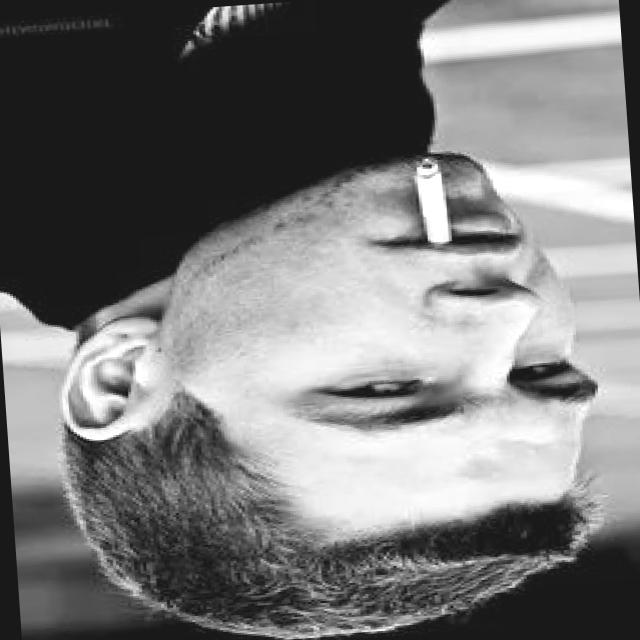cigarette: (402, 142, 463, 250)
